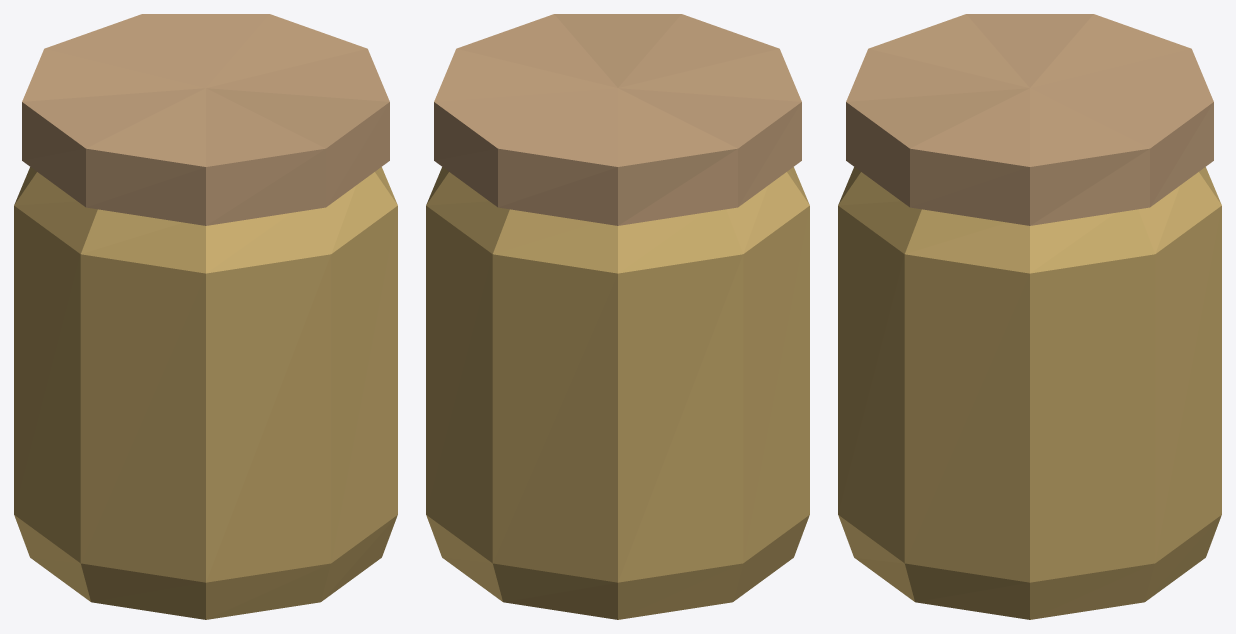
The model's file is jar_glass.glb.
3 views of the same model, side by side, from view 1: azimuth 30°, elevation 25°; view 2: azimuth 150°, elevation 25°; view 3: azimuth 270°, elevation 25° (orthographic).
Parts seen in each view (by area): view 1: jar_glass; view 2: jar_glass; view 3: jar_glass.
Boxes of the visible parts, x1,y1,x2,y2 form: jar_glass: (14, 14, 397, 619); jar_glass: (426, 14, 809, 619); jar_glass: (838, 14, 1221, 619).
Bounding box in the file's own units: 0.2328 × 0.31 × 0.2364.
